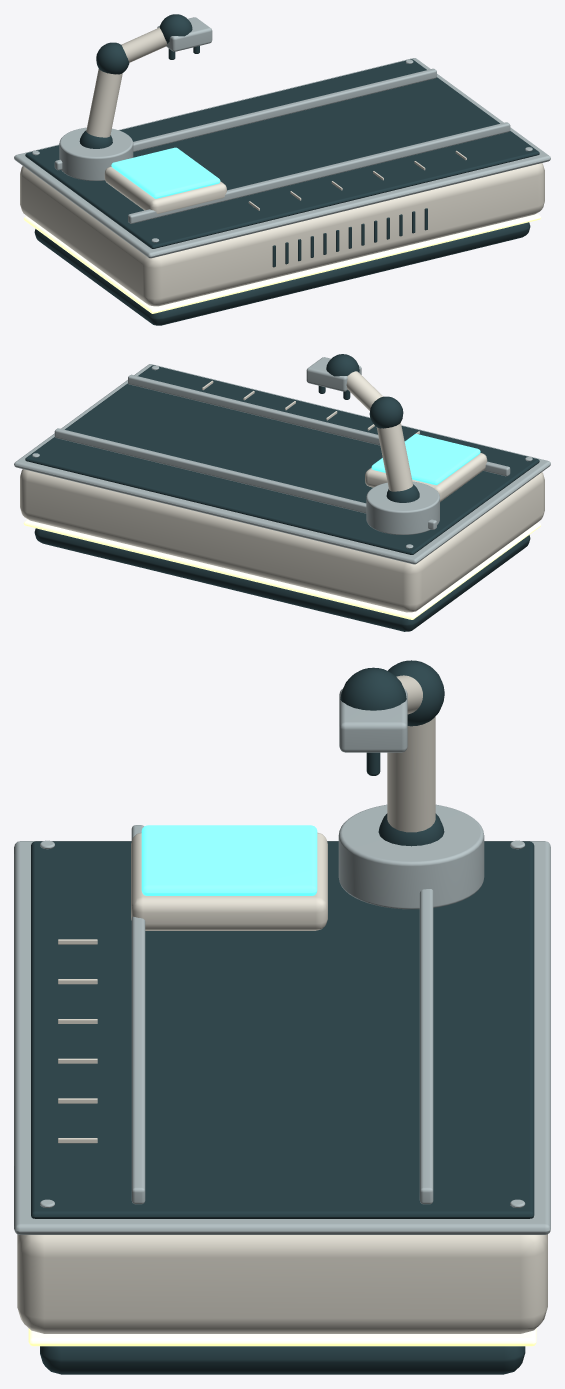
File: test-bench.glb
The picture shows the model from 3 angles, top to bottom: view 1: azimuth 30°, elevation 25°; view 2: azimuth 150°, elevation 25°; view 3: azimuth 270°, elevation 25°; orthographic projection. The views are drawn at different scales.
Visible parts, largest first — view 1: Dark instrument bed.001, Ceramic main chassis.001, Floating shadow foot.001, Top aluminum rim.001, Travel rail, Luminous perimeter.001, Travel rail.001, Elastic surface, Robot rotary base, Launch pad, Robot lower arm, Robot upper arm (+4 smaller); view 2: Dark instrument bed.001, Ceramic main chassis.001, Floating shadow foot.001, Top aluminum rim.001, Luminous perimeter.001, Travel rail.001, Travel rail, Robot rotary base, Elastic surface, Robot lower arm, Launch pad, Rotary actuator.001 (+4 smaller); view 3: Dark instrument bed.001, Ceramic main chassis.001, Top aluminum rim.001, Floating shadow foot.001, Elastic surface, Robot rotary base, Launch pad, Luminous perimeter.001, Travel rail.001, Robot lower arm, Travel rail, Sensor head (+3 smaller).
Part boxes in pixels (left/top/right/bottom): Dark instrument bed.001: left=25, top=59, right=539, bottom=248; Ceramic main chassis.001: left=20, top=163, right=544, bottom=306; Floating shadow foot.001: left=34, top=222, right=530, bottom=325; Top aluminum rim.001: left=14, top=58, right=550, bottom=258; Travel rail: left=128, top=122, right=510, bottom=223; Luminous perimeter.001: left=24, top=213, right=541, bottom=313; Travel rail.001: left=54, top=68, right=436, bottom=170; Elastic surface: left=111, top=147, right=220, bottom=198; Robot rotary base: left=59, top=127, right=133, bottom=180; Launch pad: left=104, top=166, right=226, bottom=213; Robot lower arm: left=86, top=69, right=122, bottom=137; Robot upper arm: left=121, top=27, right=166, bottom=62; Dark instrument bed.001: left=25, top=365, right=539, bottom=554; Ceramic main chassis.001: left=20, top=469, right=544, bottom=612; Floating shadow foot.001: left=34, top=528, right=530, bottom=631; Top aluminum rim.001: left=14, top=364, right=550, bottom=564; Luminous perimeter.001: left=23, top=519, right=540, bottom=619; Travel rail.001: left=54, top=428, right=436, bottom=529; Travel rail: left=128, top=374, right=510, bottom=476; Robot rotary base: left=366, top=481, right=439, bottom=534; Elastic surface: left=371, top=434, right=480, bottom=485; Robot lower arm: left=376, top=422, right=412, bottom=491; Launch pad: left=365, top=453, right=487, bottom=501; Rotary actuator.001: left=369, top=396, right=403, bottom=428; Dark instrument bed.001: left=31, top=841, right=534, bottom=1218; Ceramic main chassis.001: left=17, top=1234, right=547, bottom=1333; Top aluminum rim.001: left=14, top=841, right=550, bottom=1234; Floating shadow foot.001: left=40, top=1346, right=525, bottom=1374; Elastic surface: left=141, top=825, right=317, bottom=895; Robot rotary base: left=338, top=804, right=484, bottom=909; Launch pad: left=131, top=832, right=327, bottom=930; Luminous perimeter.001: left=28, top=1328, right=536, bottom=1346; Travel rail.001: left=419, top=889, right=433, bottom=1204; Robot lower arm: left=387, top=716, right=435, bottom=832; Travel rail: left=131, top=825, right=145, bottom=1204; Sensor head: left=339, top=688, right=407, bottom=752.
Bounding box in the file's own units: 6.04 × 3.26 × 3.54.
